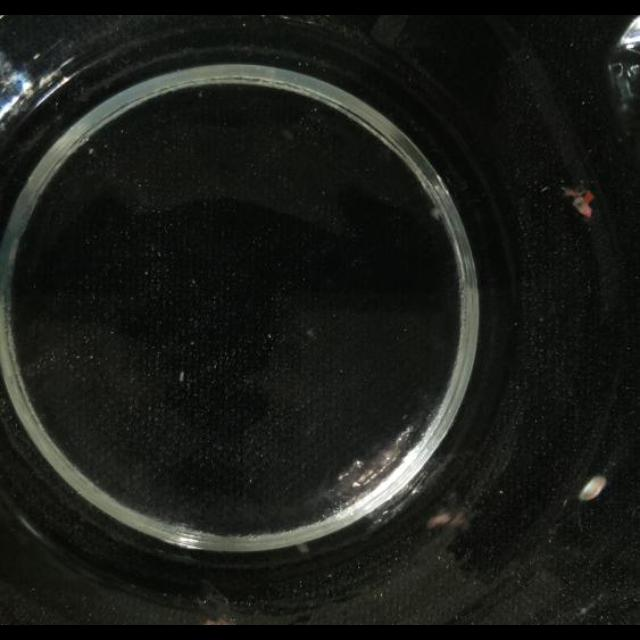Fragment: (423, 494, 472, 534), (190, 587, 227, 625), (562, 186, 594, 220)
